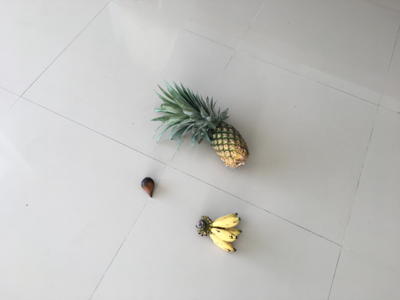banana: (196, 212, 244, 255)
pineapple: (149, 80, 250, 170)
snake fruit: (140, 177, 157, 199)
